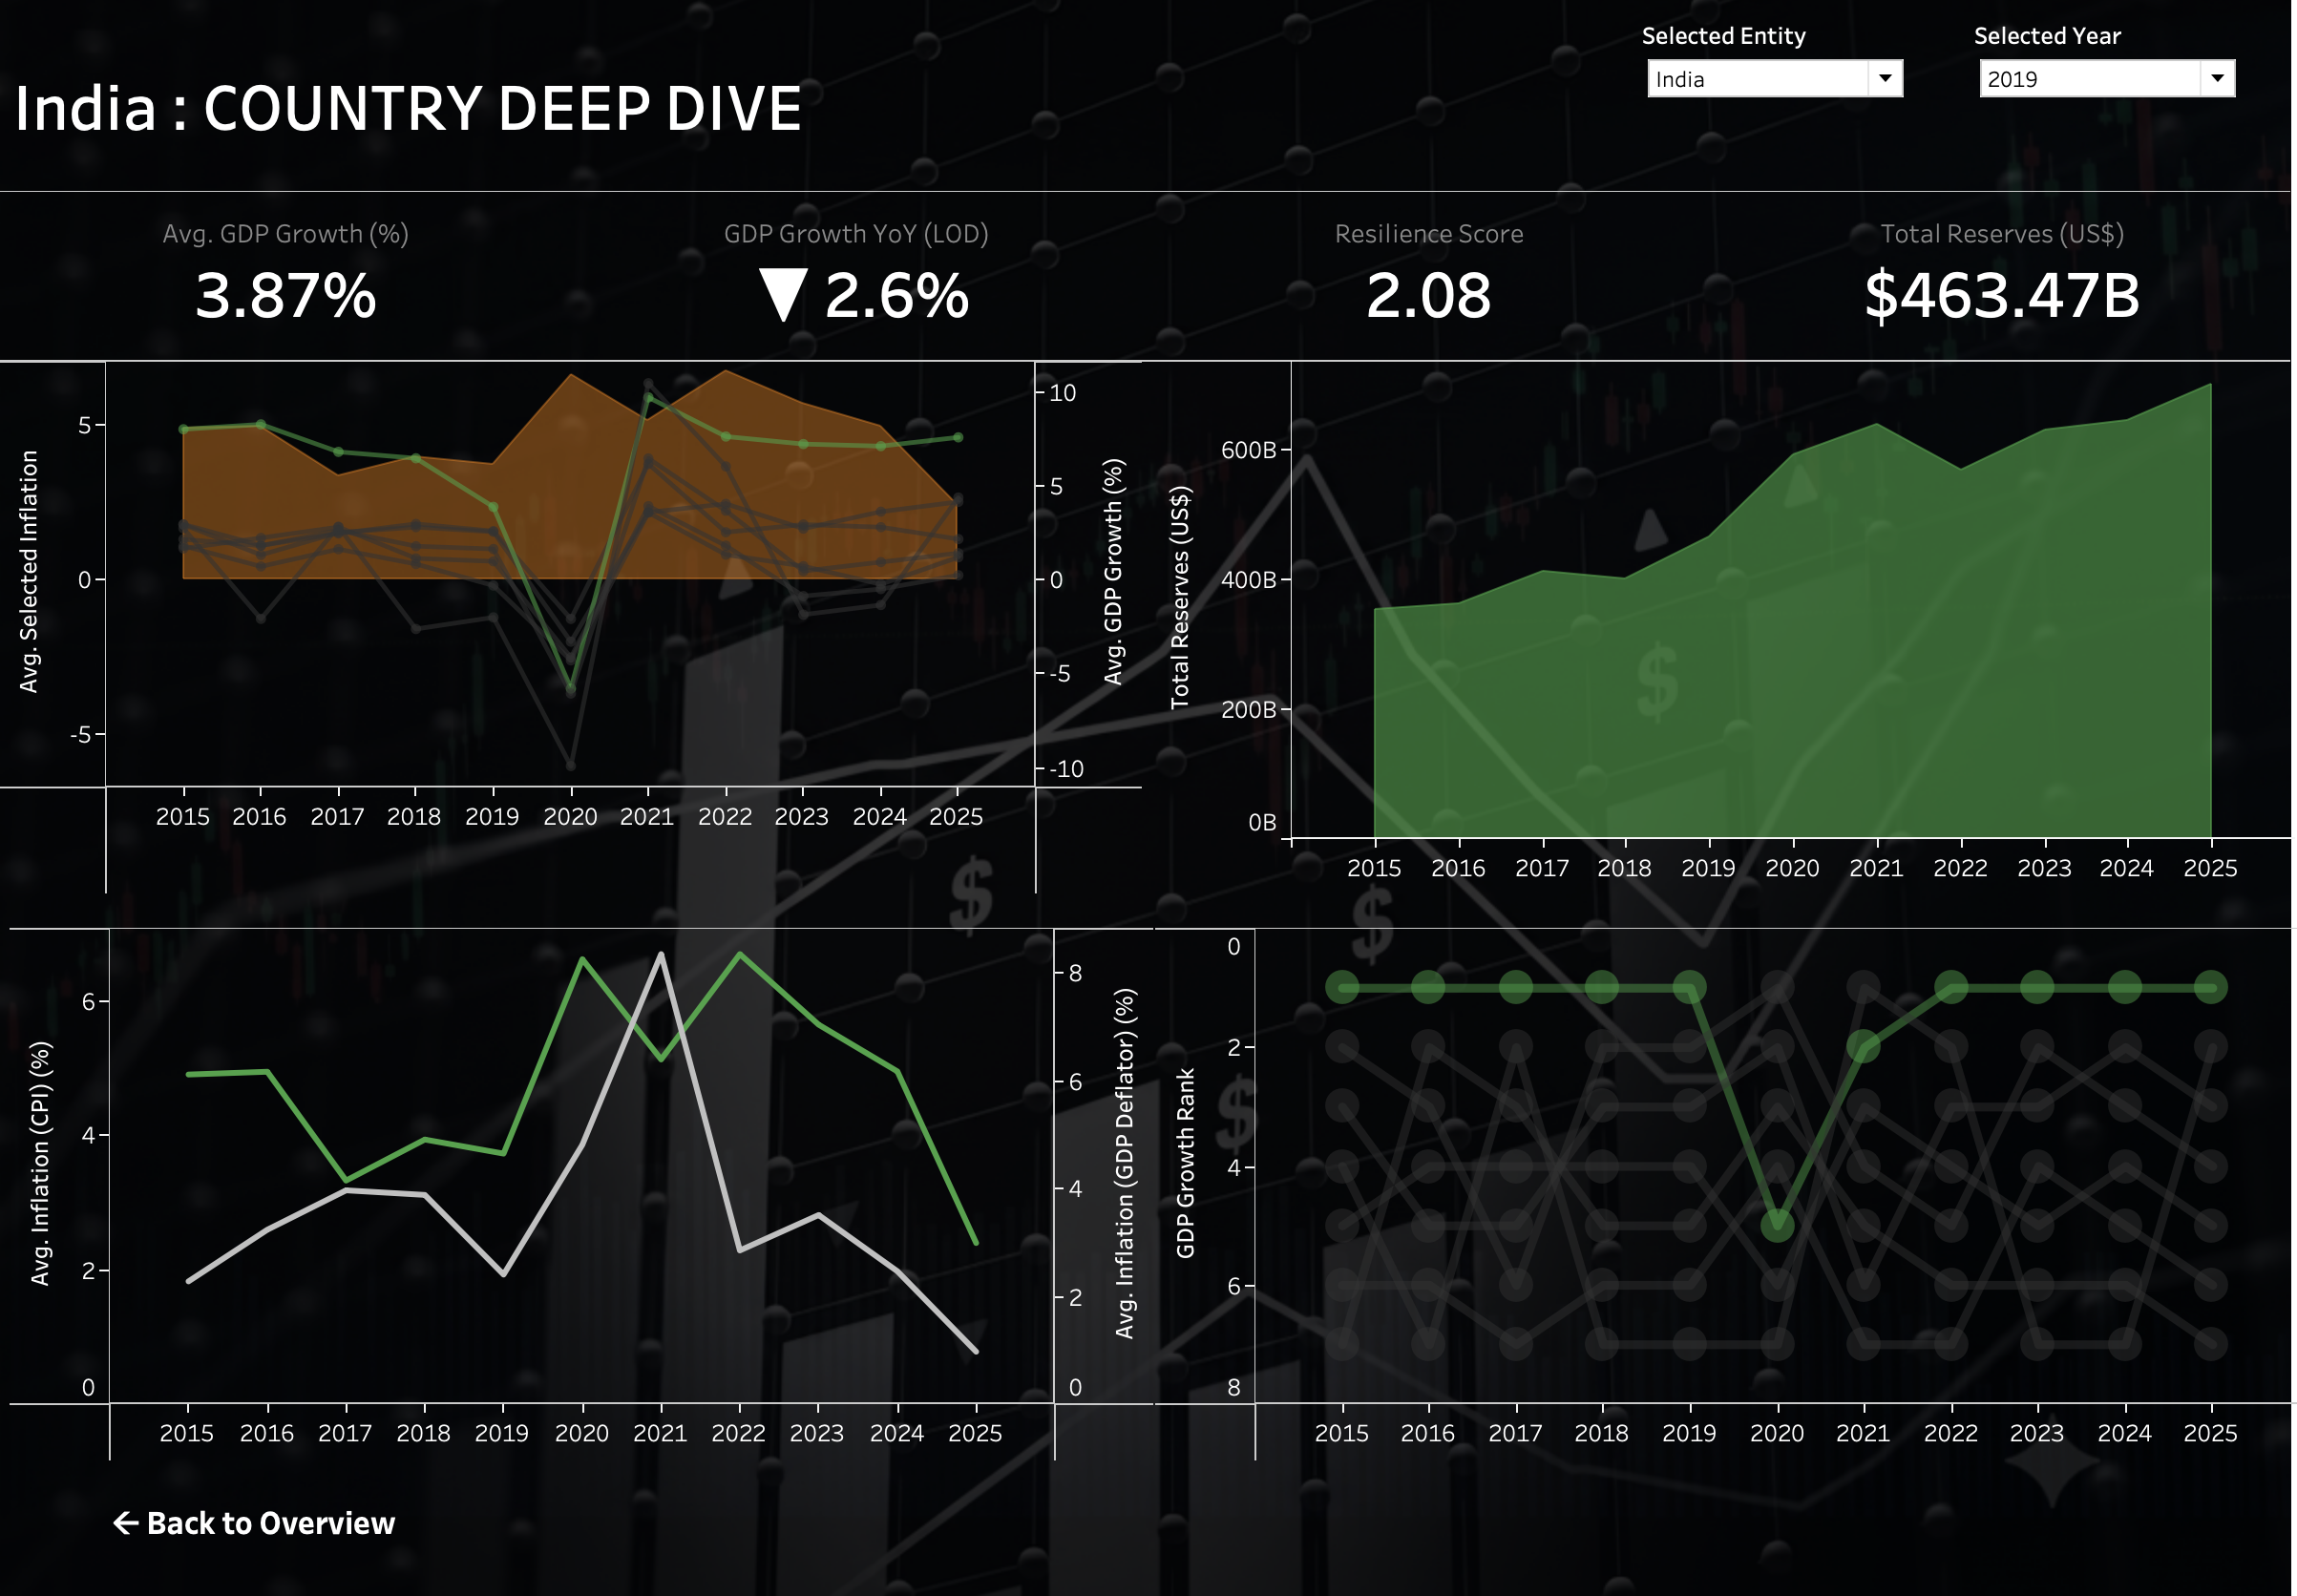

What the dashboard file says about the page in this screenshot:
{"tool":"tableau","page":{"name":"Dashboard 1 (2)","canvas":[1200,800],"ordinal":1},"visuals":[{"type":"parameter","param":"[Parameters].[Parameter 0875311532752899]","box":[860,0,140,44]},{"type":"parameter","param":"[Parameters].[Parameter 0875317051428880]","box":[1034,0,140,45]},{"type":"text","box":[4,1,654,89]},{"type":"worksheet","title":"Entity KPI Strip","mark":"Text","box":[0,90,1200,90]},{"type":"worksheet","title":"Reserves Trend","mark":"Area","rows":["Total Reserves (US$)"],"cols":["Year"],"box":[602,179,600,280]},{"type":"worksheet","title":"Inflation Gap","mark":"Automatic","rows":["Inflation (CPI) (%)","Inflation (GDP Deflator) (%)"],"cols":["Year"],"box":[5,476,600,280]},{"type":"worksheet","title":"GDP Growth Rank","mark":"Automatic","cols":["Year"],"box":[605,476,600,280]}]}

Visuals, with their boxes on the page's 1200x800 design canvas (x1, y1, x2, y2). These are canvas units, not pixel positions in the 2297x1596 screenshot, which may show the page scaled, cropped or inside an application window:
parameter: <box>860,0,1000,44</box>
parameter: <box>1034,0,1174,45</box>
text: <box>4,1,658,90</box>
"Entity KPI Strip" worksheet (Text marks): <box>0,90,1200,180</box>
"Reserves Trend" worksheet (Area marks): <box>602,179,1202,459</box>
"Inflation Gap" worksheet: <box>5,476,605,756</box>
"GDP Growth Rank" worksheet: <box>605,476,1205,756</box>
